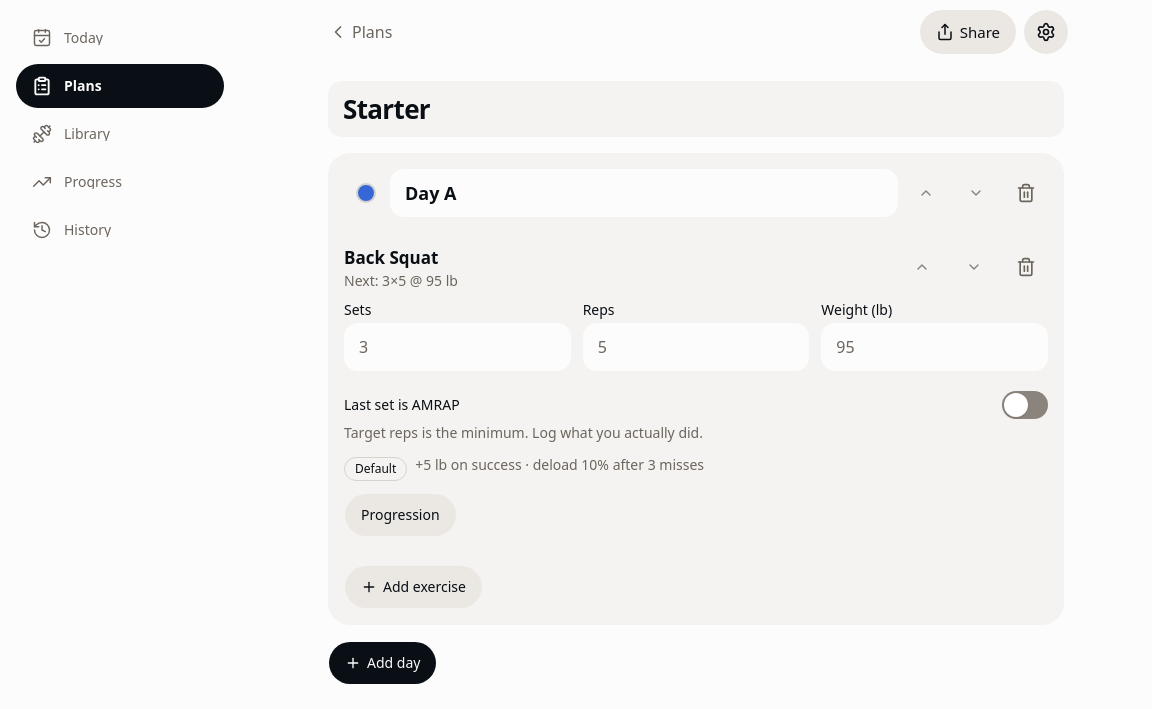
Test: publish limit, server field errors, then success shows the status with counts
Click the button "Share" at (968, 32), box [920,10,1016,54]
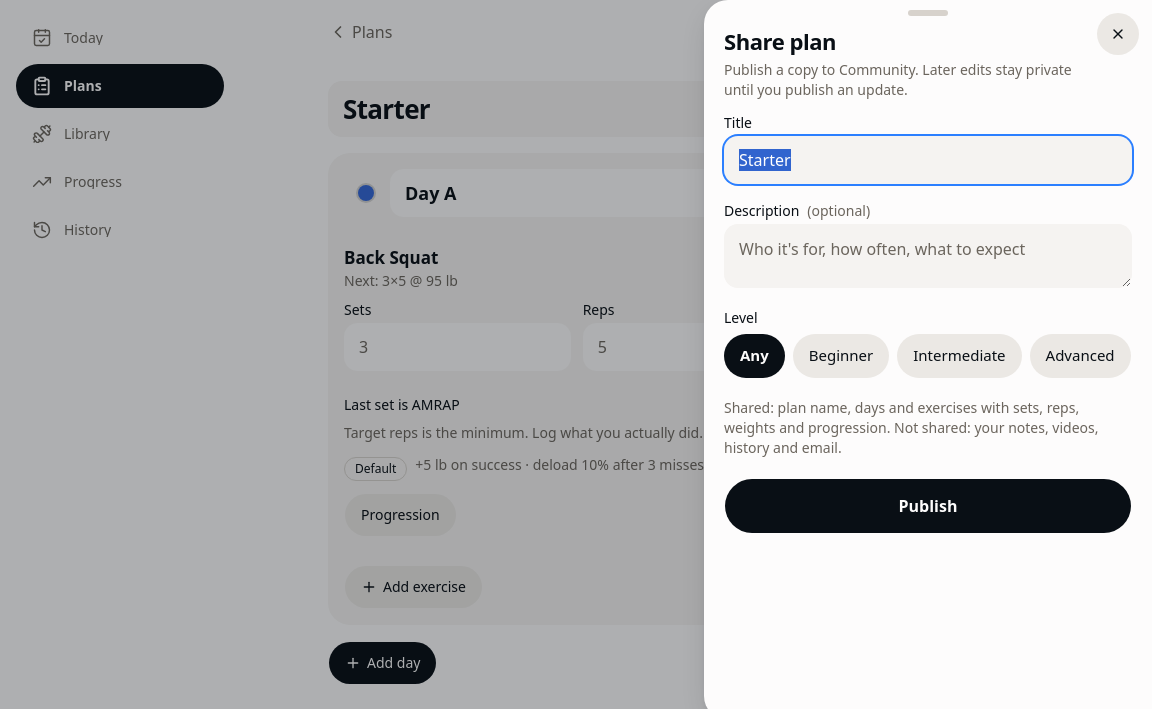
Click the button "Publish" at (928, 506), box [724,478,1132,534]
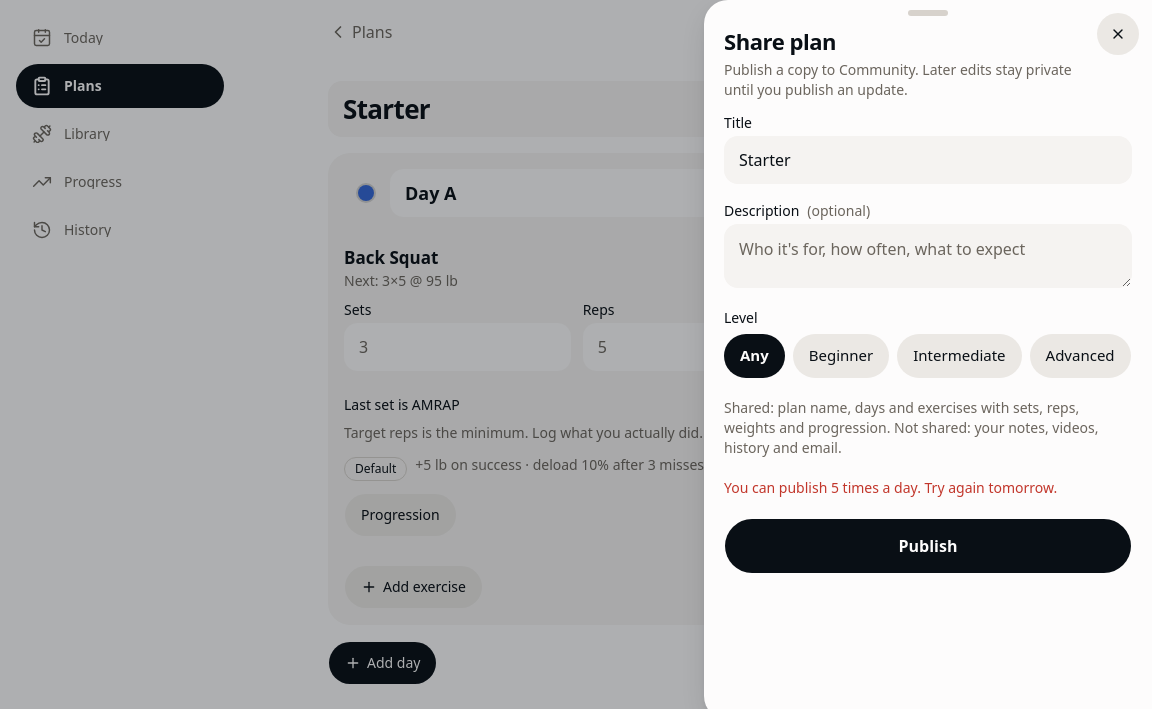
Now the message reads "You can publish 5 times a day. Try again tomorrow.", box [724,478,1057,496]
Click the button "Publish" at (928, 546), box [724,518,1132,574]
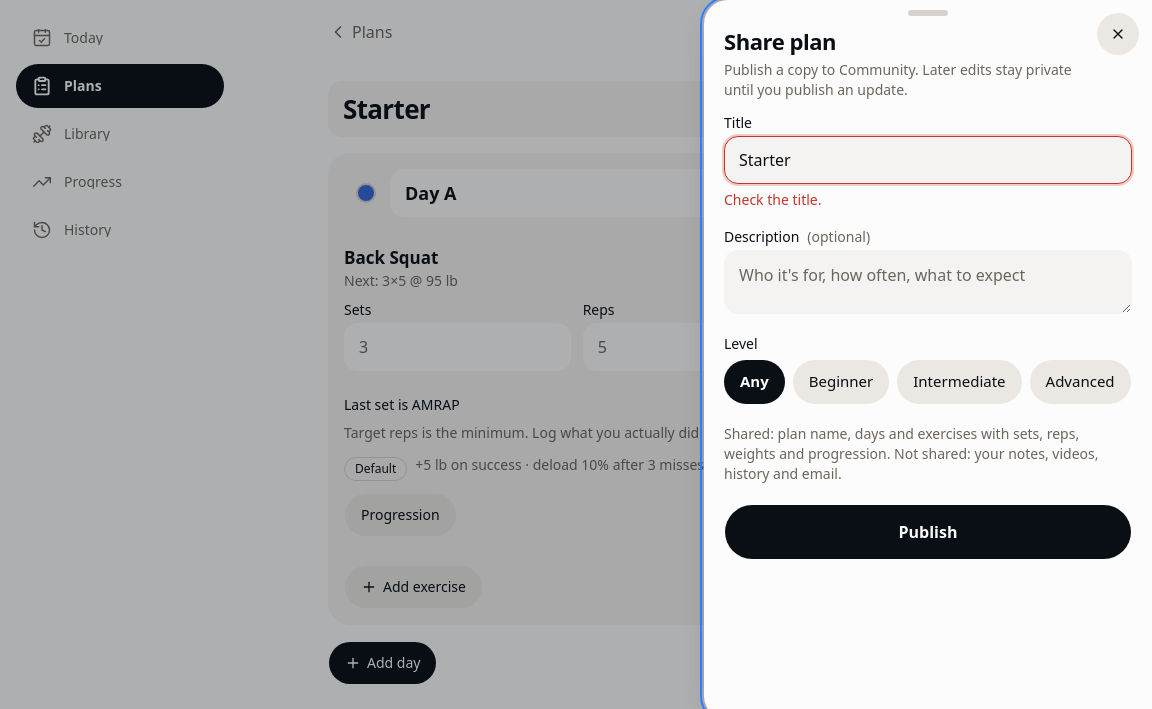
Now the text "Check the title." is shown, box [724,190,822,208]
Click the button "Publish" at (928, 532), box [724,504,1132,560]
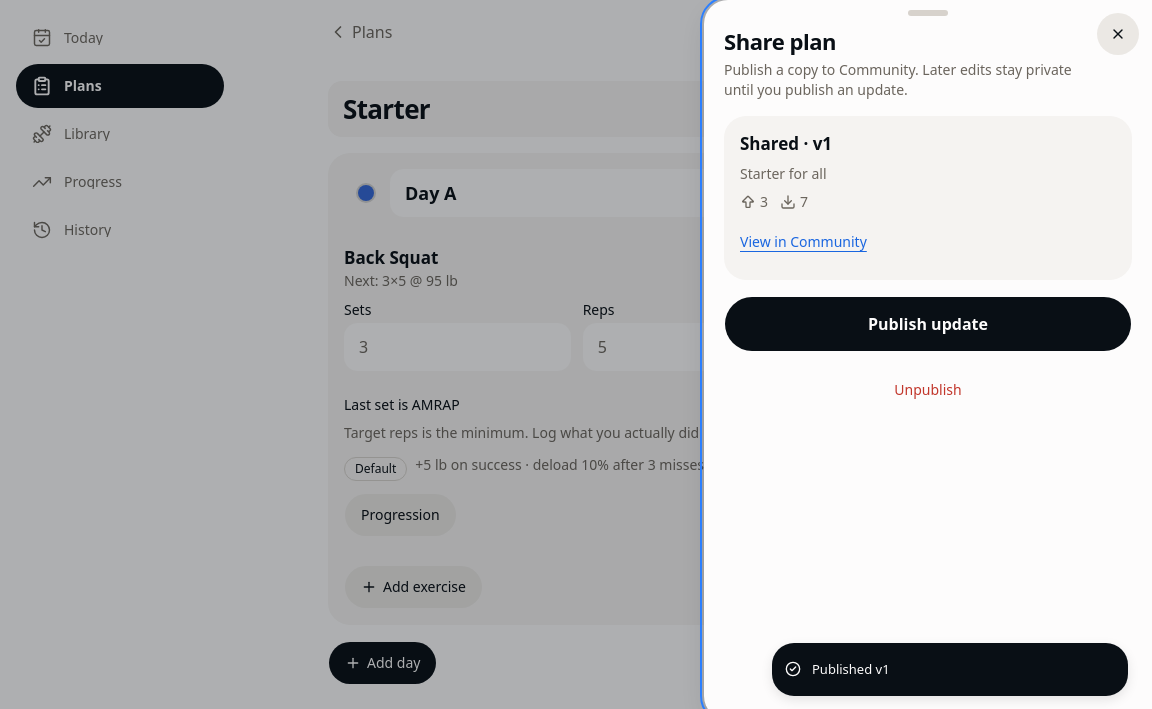
Now the text "Shared · v1" is shown, box [740,132,832,154]
Now the element named "3 upvotes" is shown, box [740,192,768,212]
Now the element named "7 downloads" is shown, box [780,192,808,212]
